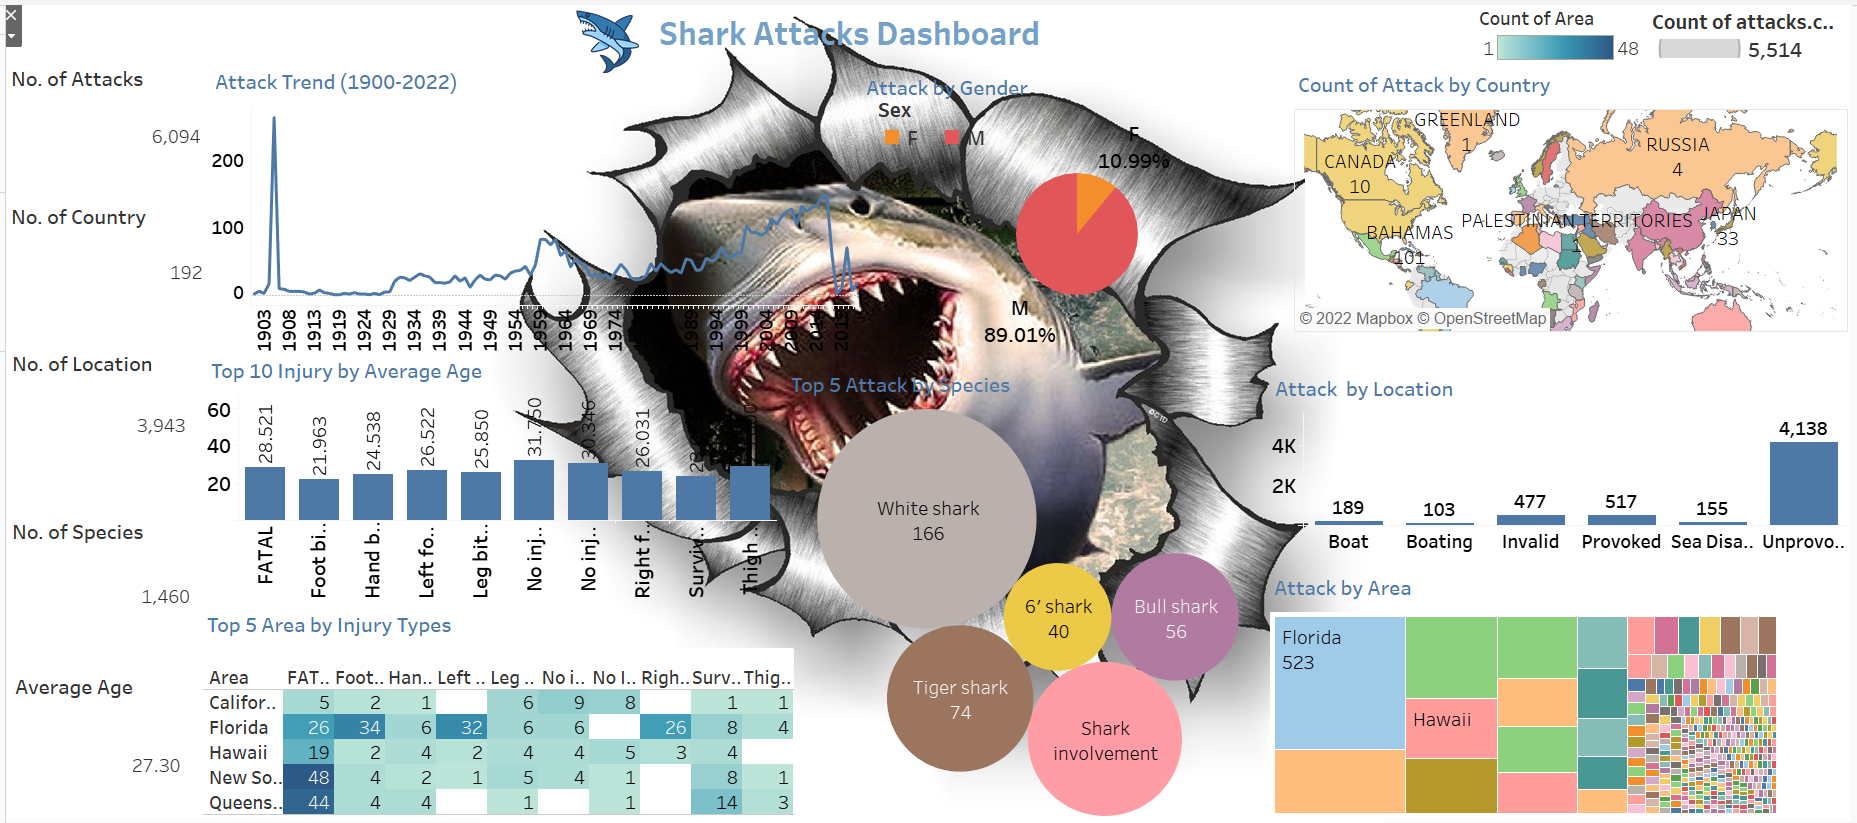

Layout of this report page (visuals, bound fields, positions):
{"tool":"tableau","page":{"name":"Dashboard 1","canvas":[1000,1000],"units":"permille","ordinal":0},"visuals":[{"type":"legend","title":"Area_by_injury","param":"[federated.125nnex1sk9gar187uqc703z9pqh].[cnt:Area:qk]","box":[798.3,0,89.3,70.9]},{"type":"legend","title":"Attack_by_Gender","param":"[federated.125nnex1sk9gar187uqc703z9pqh].[__tableau_internal_object_id__].[cnt:a","box":[891.9,2.4,98.7,72.1]},{"type":"text","box":[351.6,3.7,261.6,59.9]},{"type":"image","param":"Image/shark.png","box":[308.9,6.1,54.2,77]},{"type":"worksheet","title":"Sheet 9","mark":"Automatic","box":[0.6,67.2,106.8,132]},{"type":"worksheet","title":"Attack_trend","mark":"Automatic","rows":["attacks.csv_CFCA2315A69343C9B363EF5BED87A1FA"],"cols":["Date"],"box":[111.2,70.9,351,354.5]},{"type":"worksheet","title":"attack_by_country","mark":"Multipolygon","box":[698.3,74.6,300.4,325.2]},{"type":"worksheet","title":"Attack_by_Gender","mark":"Pie","box":[464.1,78.2,233,350.9]},{"type":"legend","title":"Attack_by_Gender","param":"[federated.125nnex1sk9gar187uqc703z9pqh].[none:Sex:nk]","box":[472.8,110,80,79.5]},{"type":"worksheet","title":"Sheet 10","mark":"Automatic","box":[0.6,235.9,108.1,127.1]},{"type":"worksheet","title":"Sheet 11","mark":"Automatic","box":[1.2,415.7,98.1,141.8]},{"type":"worksheet","title":"Injury_by_Age","mark":"Automatic","rows":["Age"],"cols":["Injury"],"box":[108.7,424.2,309.2,303.2]},{"type":"worksheet","title":"Attack_by_species","mark":"Circle","box":[423.5,441.3,261.1,550.1]},{"type":"worksheet","title":"Attack_by_locatn","mark":"Automatic","rows":["Location"],"cols":["Type"],"box":[685.4,446.2,313.3,238.4]},{"type":"worksheet","title":"Sheet 12","mark":"Automatic","box":[1.2,621,100.6,150.4]},{"type":"worksheet","title":"Attack_by_Area","mark":"Automatic","box":[685.2,689.5,310.4,303.2]},{"type":"worksheet","title":"Area_by_injury","mark":"Square","rows":["Area"],"cols":["Injury"],"box":[106.8,734.7,320.4,255.5]},{"type":"worksheet","title":"Sheet 13","mark":"Automatic","box":[2.5,810.5,93.7,183.4]}]}

Visuals, with their boxes on the dashboard's canvas, which has no fixed pixel size, in thousandths of its width and height (x1, y1, x2, y2). These are canvas units, not pixel positions in the 1857x823 screenshot, which may show the page scaled, cropped or inside an application window:
"Area_by_injury" legend: rect(798, 0, 888, 71)
"Attack_by_Gender" legend: rect(892, 2, 991, 74)
text: rect(352, 4, 613, 64)
image: rect(309, 6, 363, 83)
"Sheet 9" worksheet: rect(1, 67, 107, 199)
"Attack_trend" worksheet: rect(111, 71, 462, 425)
"attack_by_country" worksheet (Multipolygon marks): rect(698, 75, 999, 400)
"Attack_by_Gender" worksheet (Pie marks): rect(464, 78, 697, 429)
"Attack_by_Gender" legend: rect(473, 110, 553, 190)
"Sheet 10" worksheet: rect(1, 236, 109, 363)
"Sheet 11" worksheet: rect(1, 416, 99, 558)
"Injury_by_Age" worksheet: rect(109, 424, 418, 727)
"Attack_by_species" worksheet (Circle marks): rect(424, 441, 685, 991)
"Attack_by_locatn" worksheet: rect(685, 446, 999, 685)
"Sheet 12" worksheet: rect(1, 621, 102, 771)
"Attack_by_Area" worksheet: rect(685, 690, 996, 993)
"Area_by_injury" worksheet (Square marks): rect(107, 735, 427, 990)
"Sheet 13" worksheet: rect(2, 810, 96, 994)
